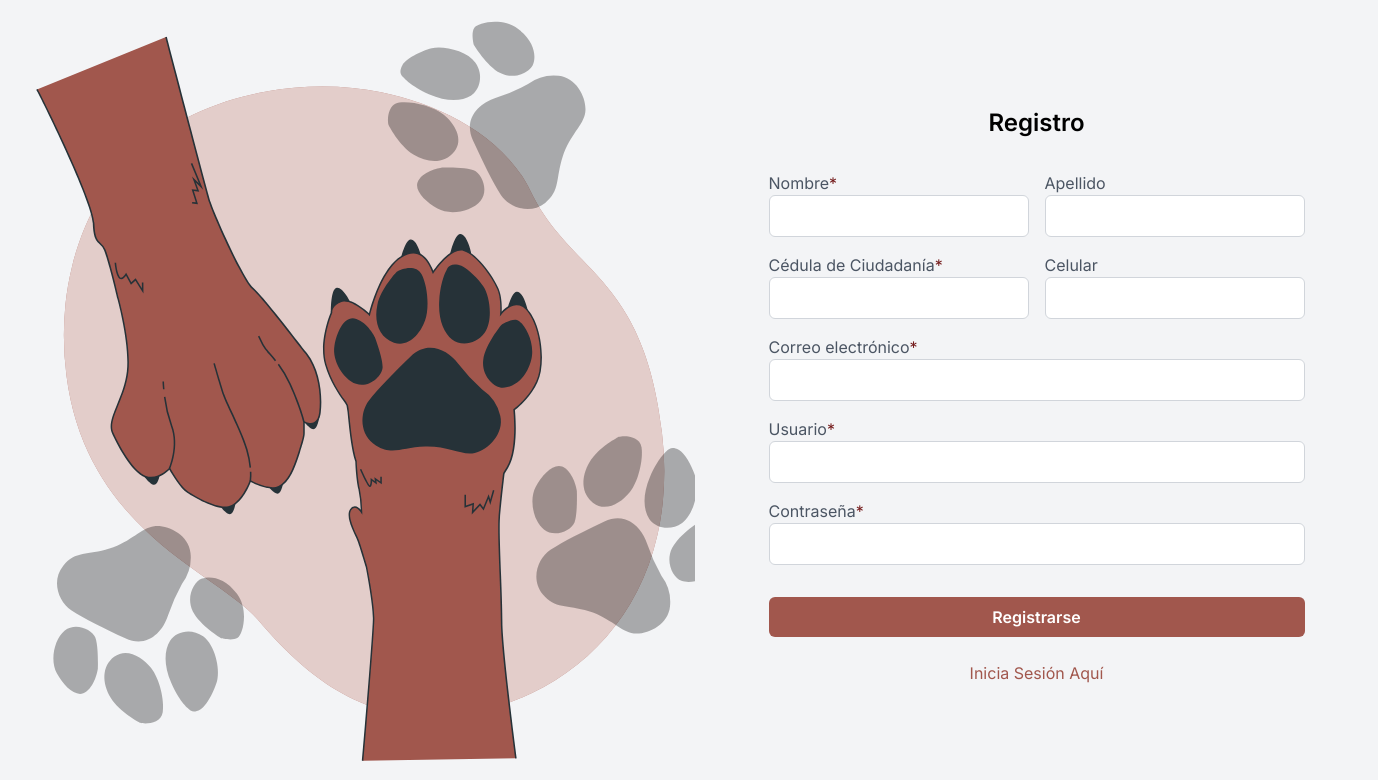
Test: SignUp Component › debería mostrar un mensaje de error si createUser devuelve un error
Simulamos el llenado del formulario
Type "Juan" into the field labelled "Nombre*" at x=898, y=216, box [768,195,1028,237]
Type "Velez" into the field labelled "Apellido" at x=1174, y=216, box [1044,195,1304,237]
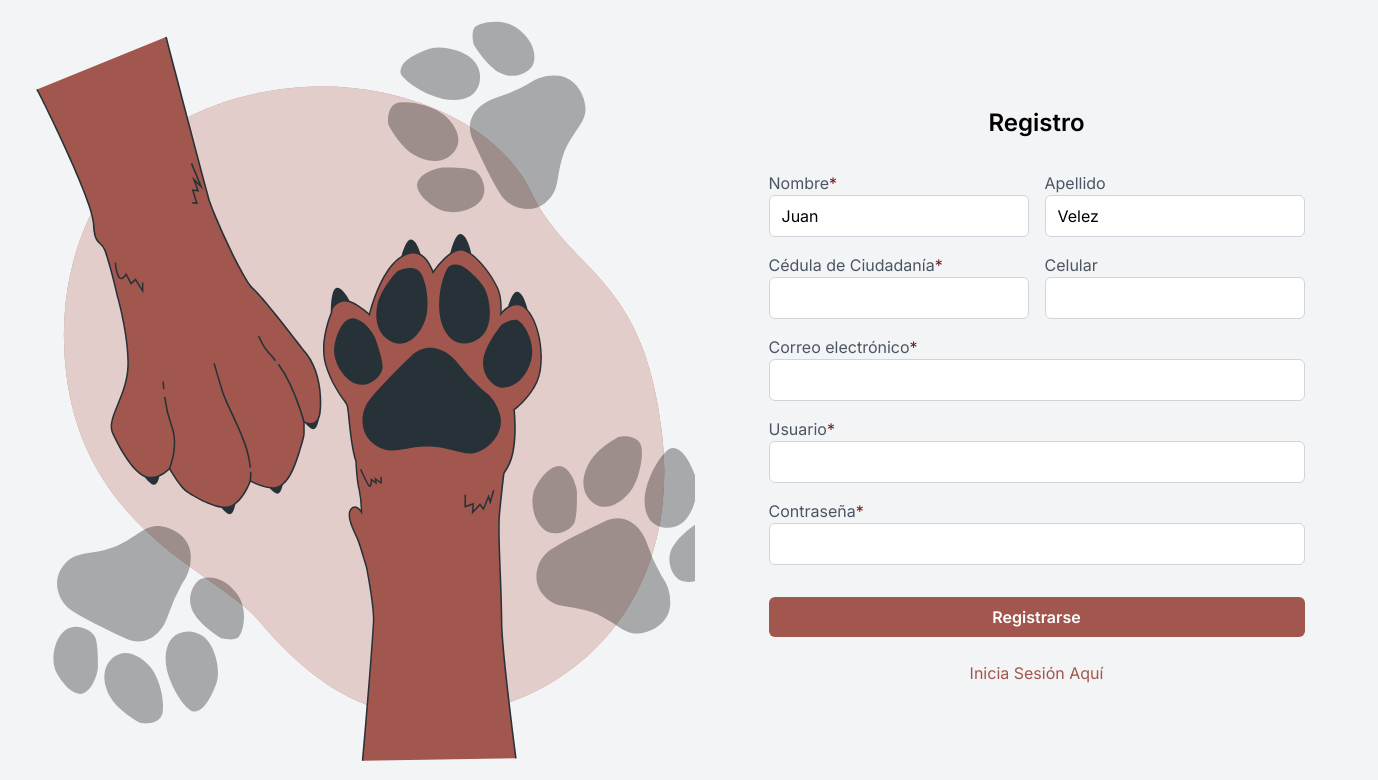
Type "123456" into the number field labelled "Cédula de Ciudadanía*" at x=898, y=298, box [768,277,1028,319]
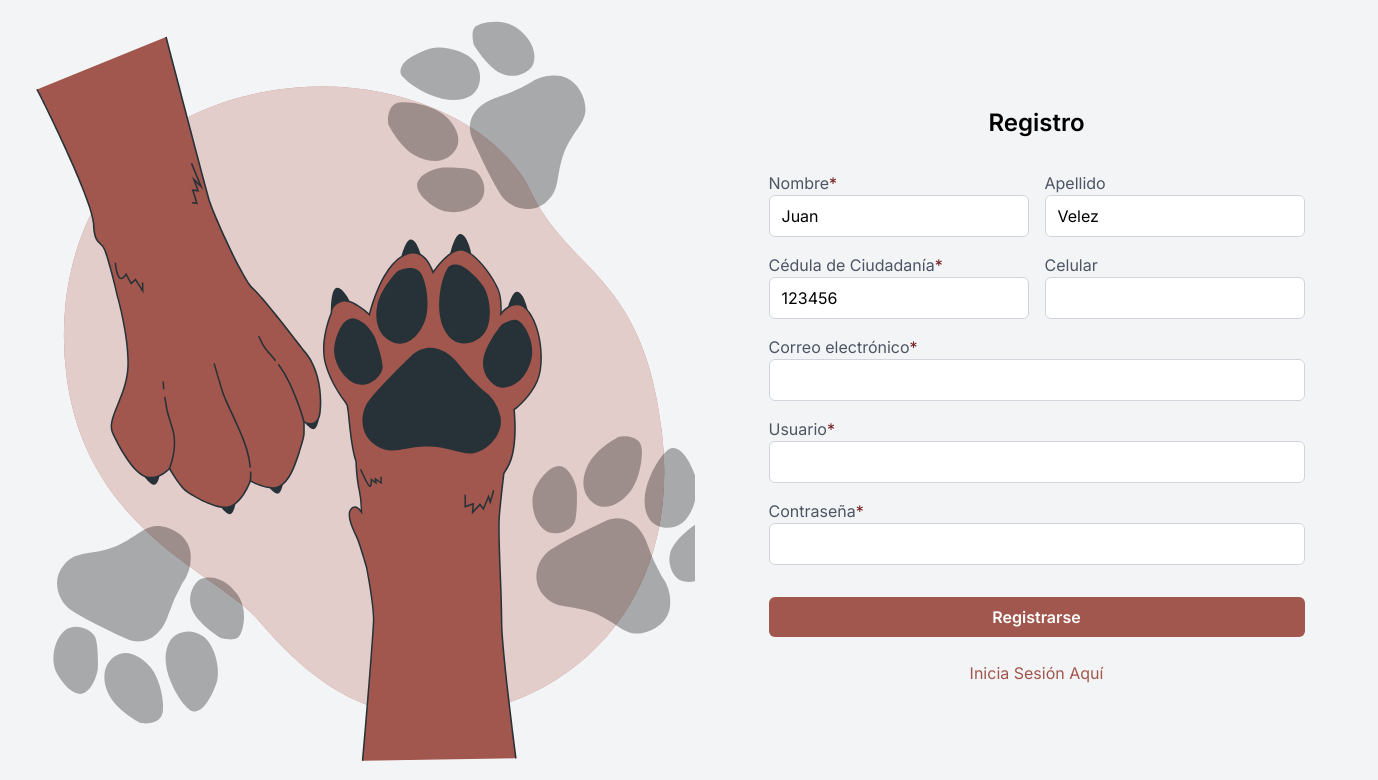
Type "test@test.com" into the field labelled "Correo electrónico*" at x=1036, y=380, box [768,359,1304,401]
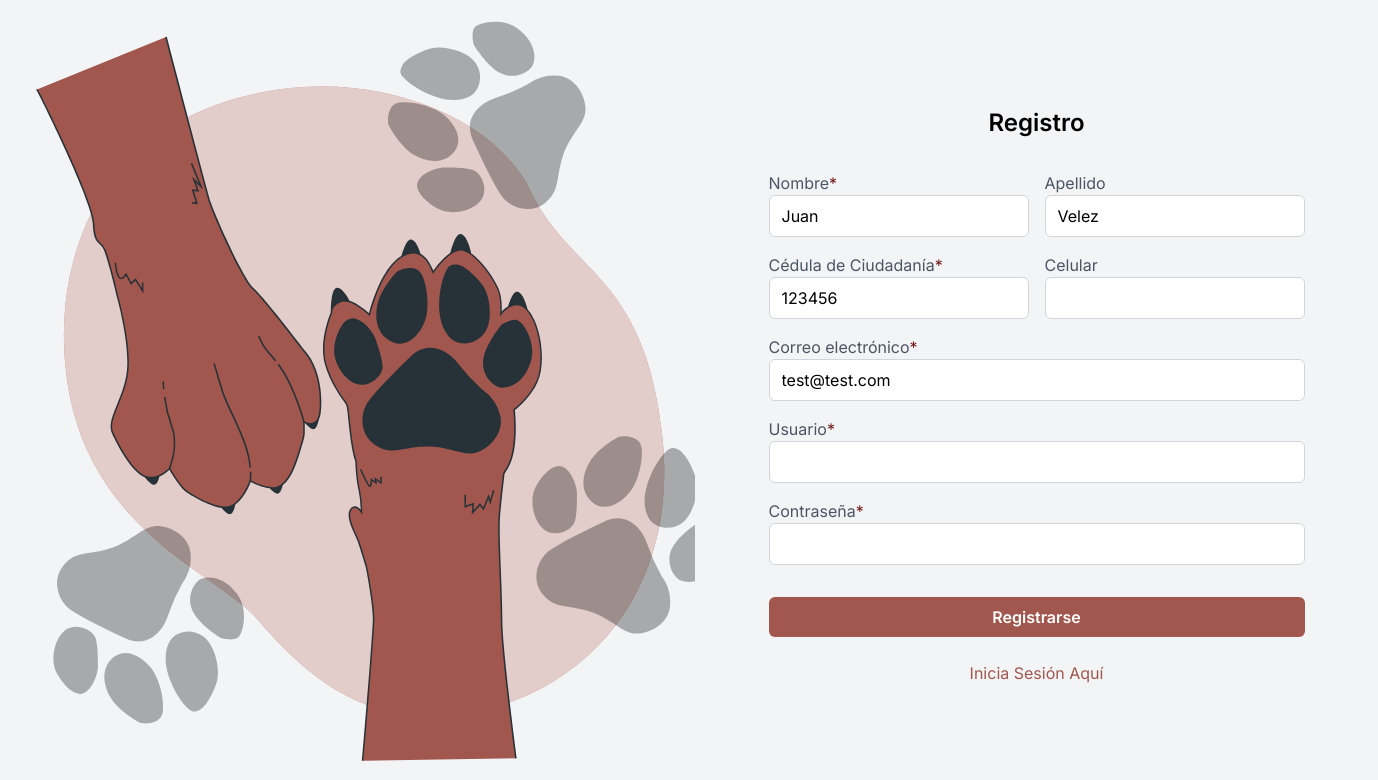
Type "usuarioTest" into the field labelled "Usuario*" at x=1036, y=462, box [768,441,1304,483]
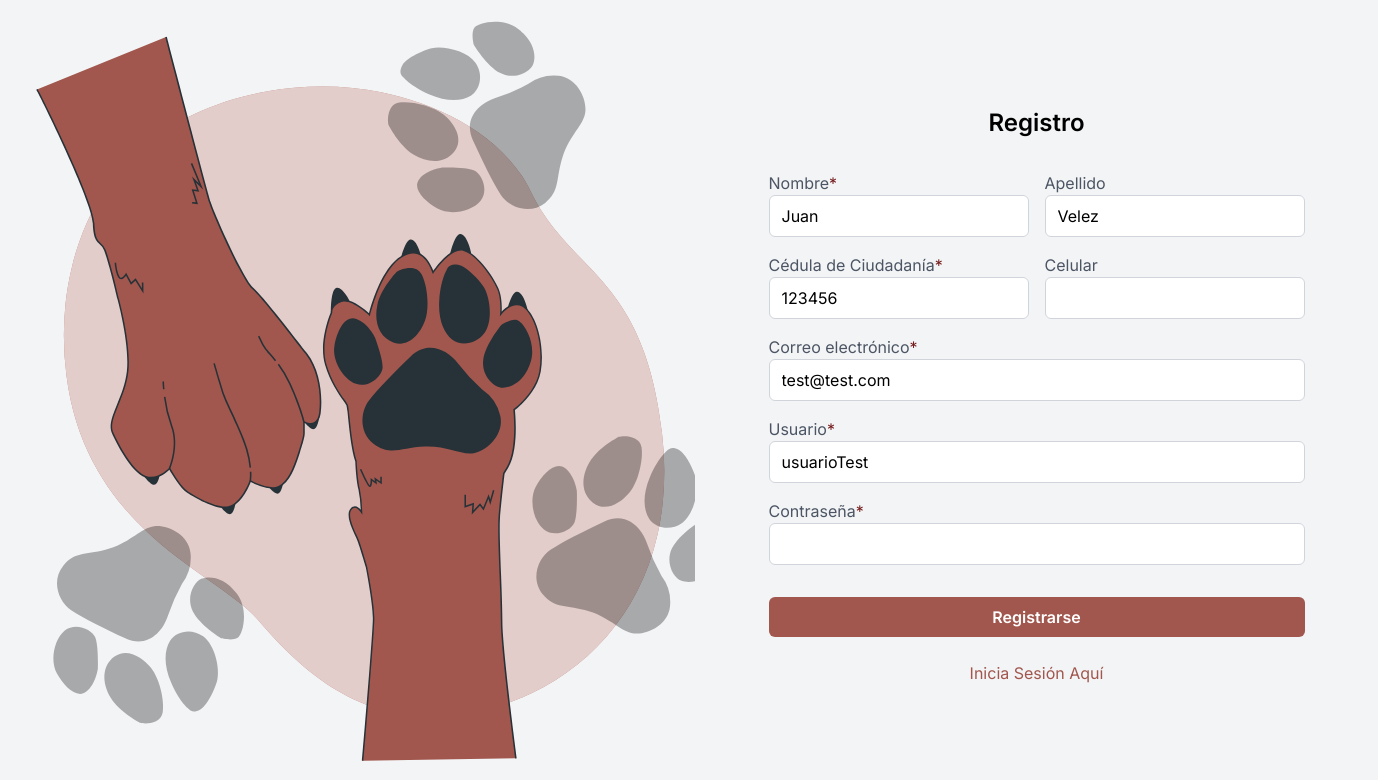
Type "password123" into the password field labelled "Contraseña*" at x=1036, y=544, box [768,523,1304,565]
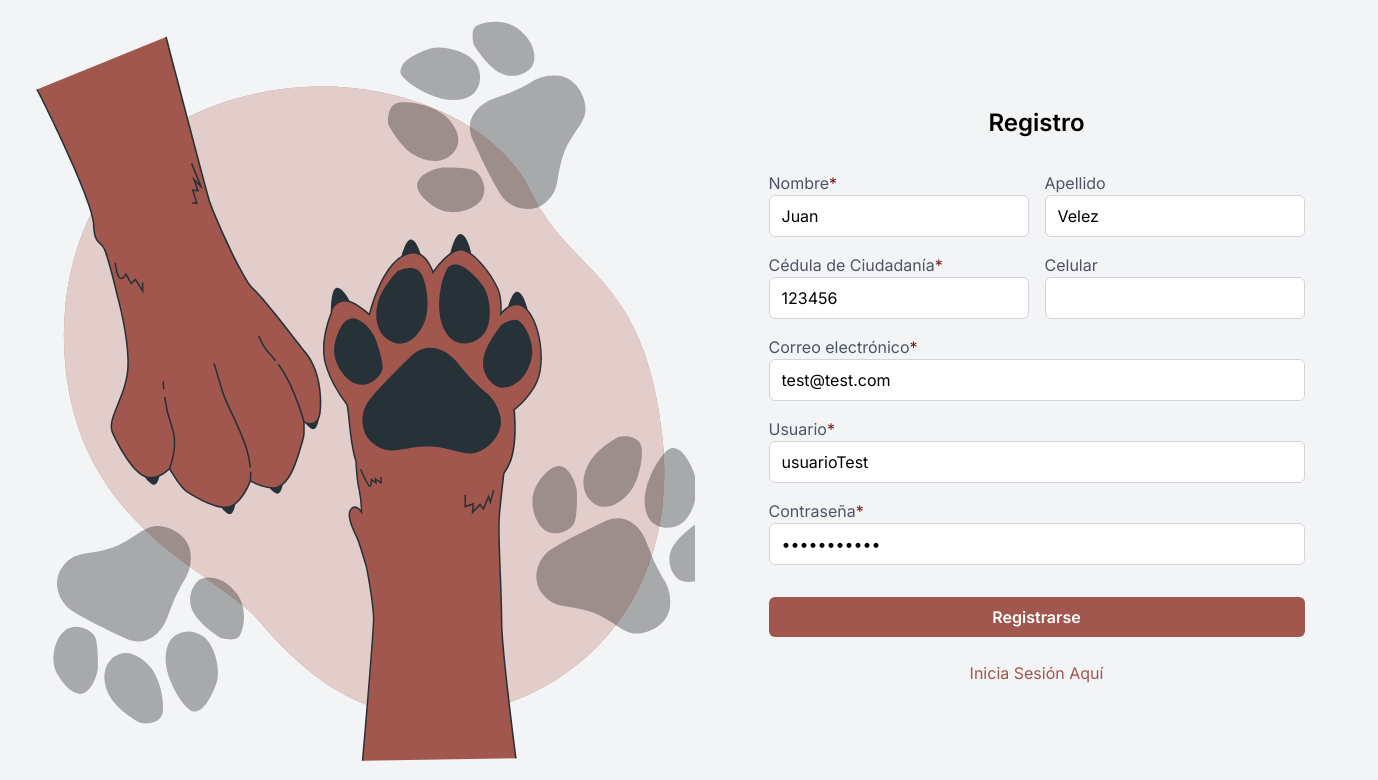
Click the button "Registrarse" at x=1036, y=617, box [768,597,1304,637]
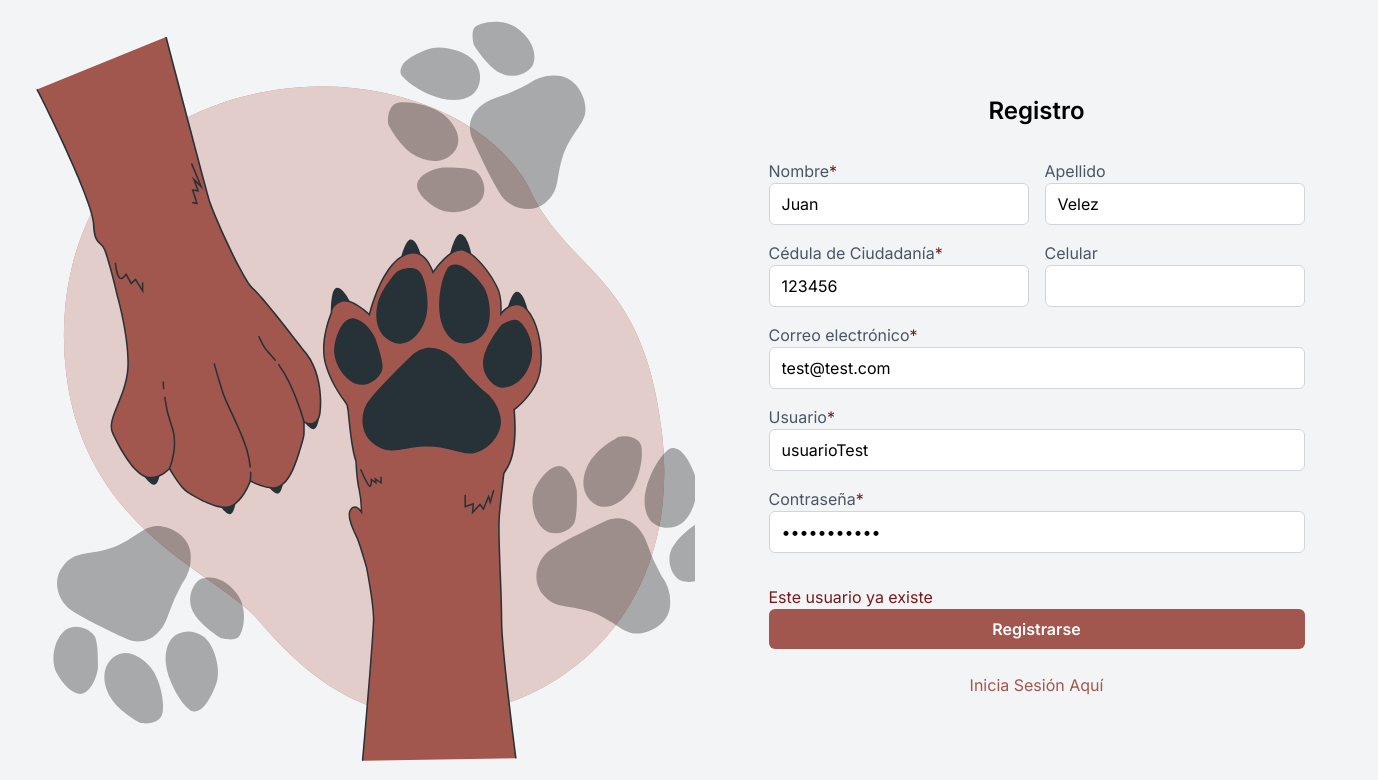
Expected: the text "Este usuario ya existe" is shown, [768,587,933,607]
